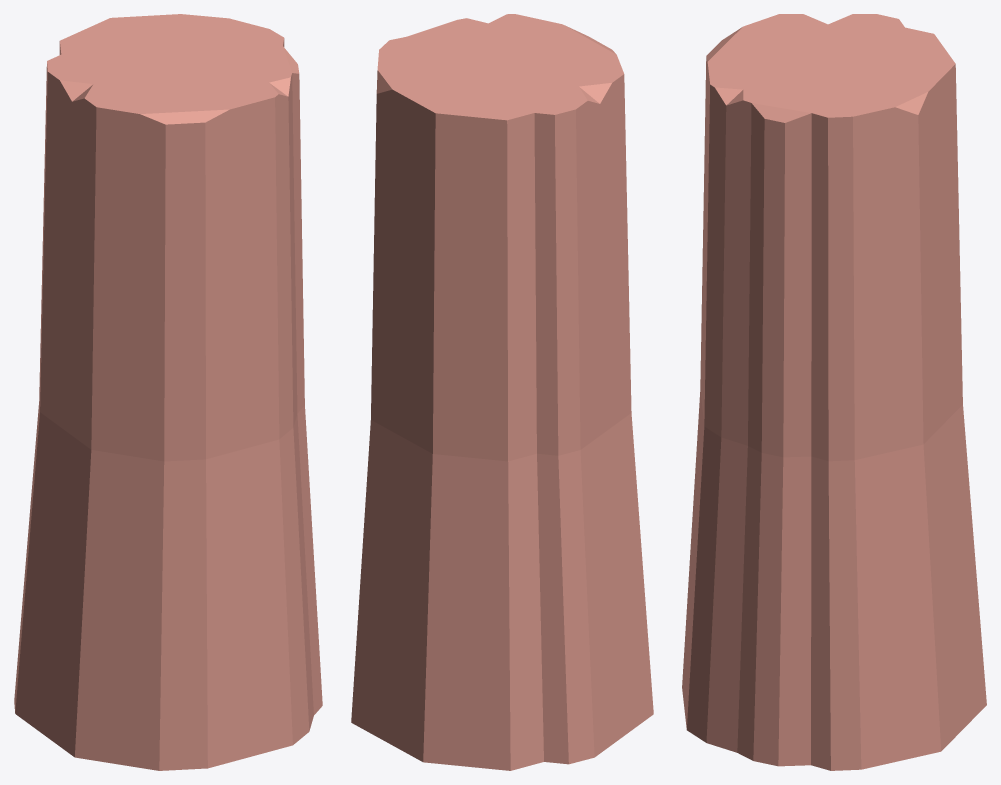
File: Cylinder_038_Vlad.fbx
3 views of the same model, side by side, from view 1: azimuth 30°, elevation 25°; view 2: azimuth 150°, elevation 25°; view 3: azimuth 270°, elevation 25° (orthographic).
Visible parts, largest first — view 1: Cylinder.038; view 2: Cylinder.038; view 3: Cylinder.038.
Boxes of the visible parts, bbox=[...] form: Cylinder.038: bbox=[14, 14, 322, 770]; Cylinder.038: bbox=[351, 14, 653, 770]; Cylinder.038: bbox=[682, 14, 986, 770].
Size of the model in its own units: 212 by 500 by 215.
